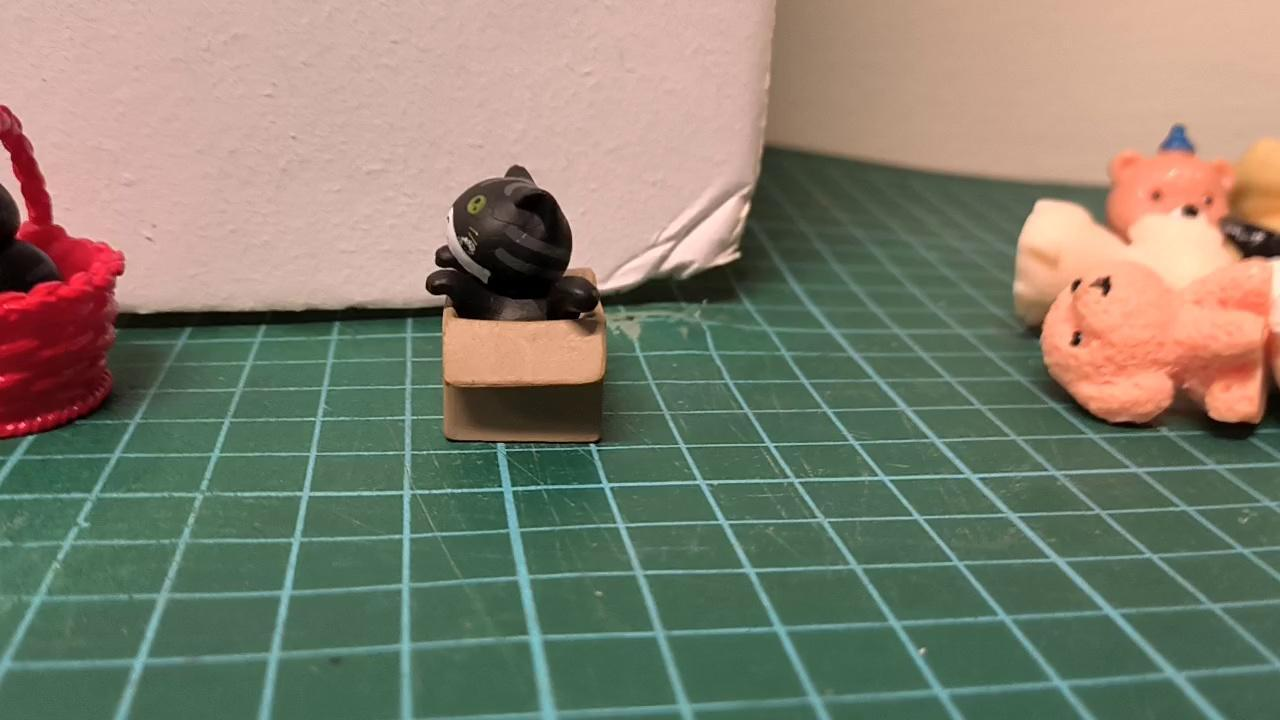pet: (422, 158, 605, 320)
